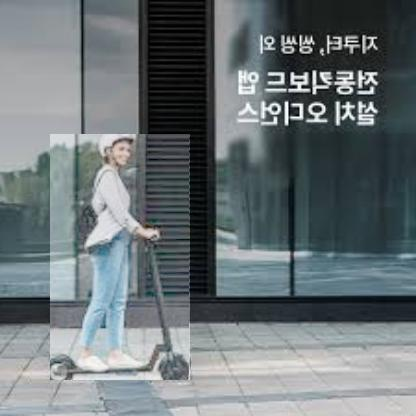with scooter: (51, 134, 191, 380)
